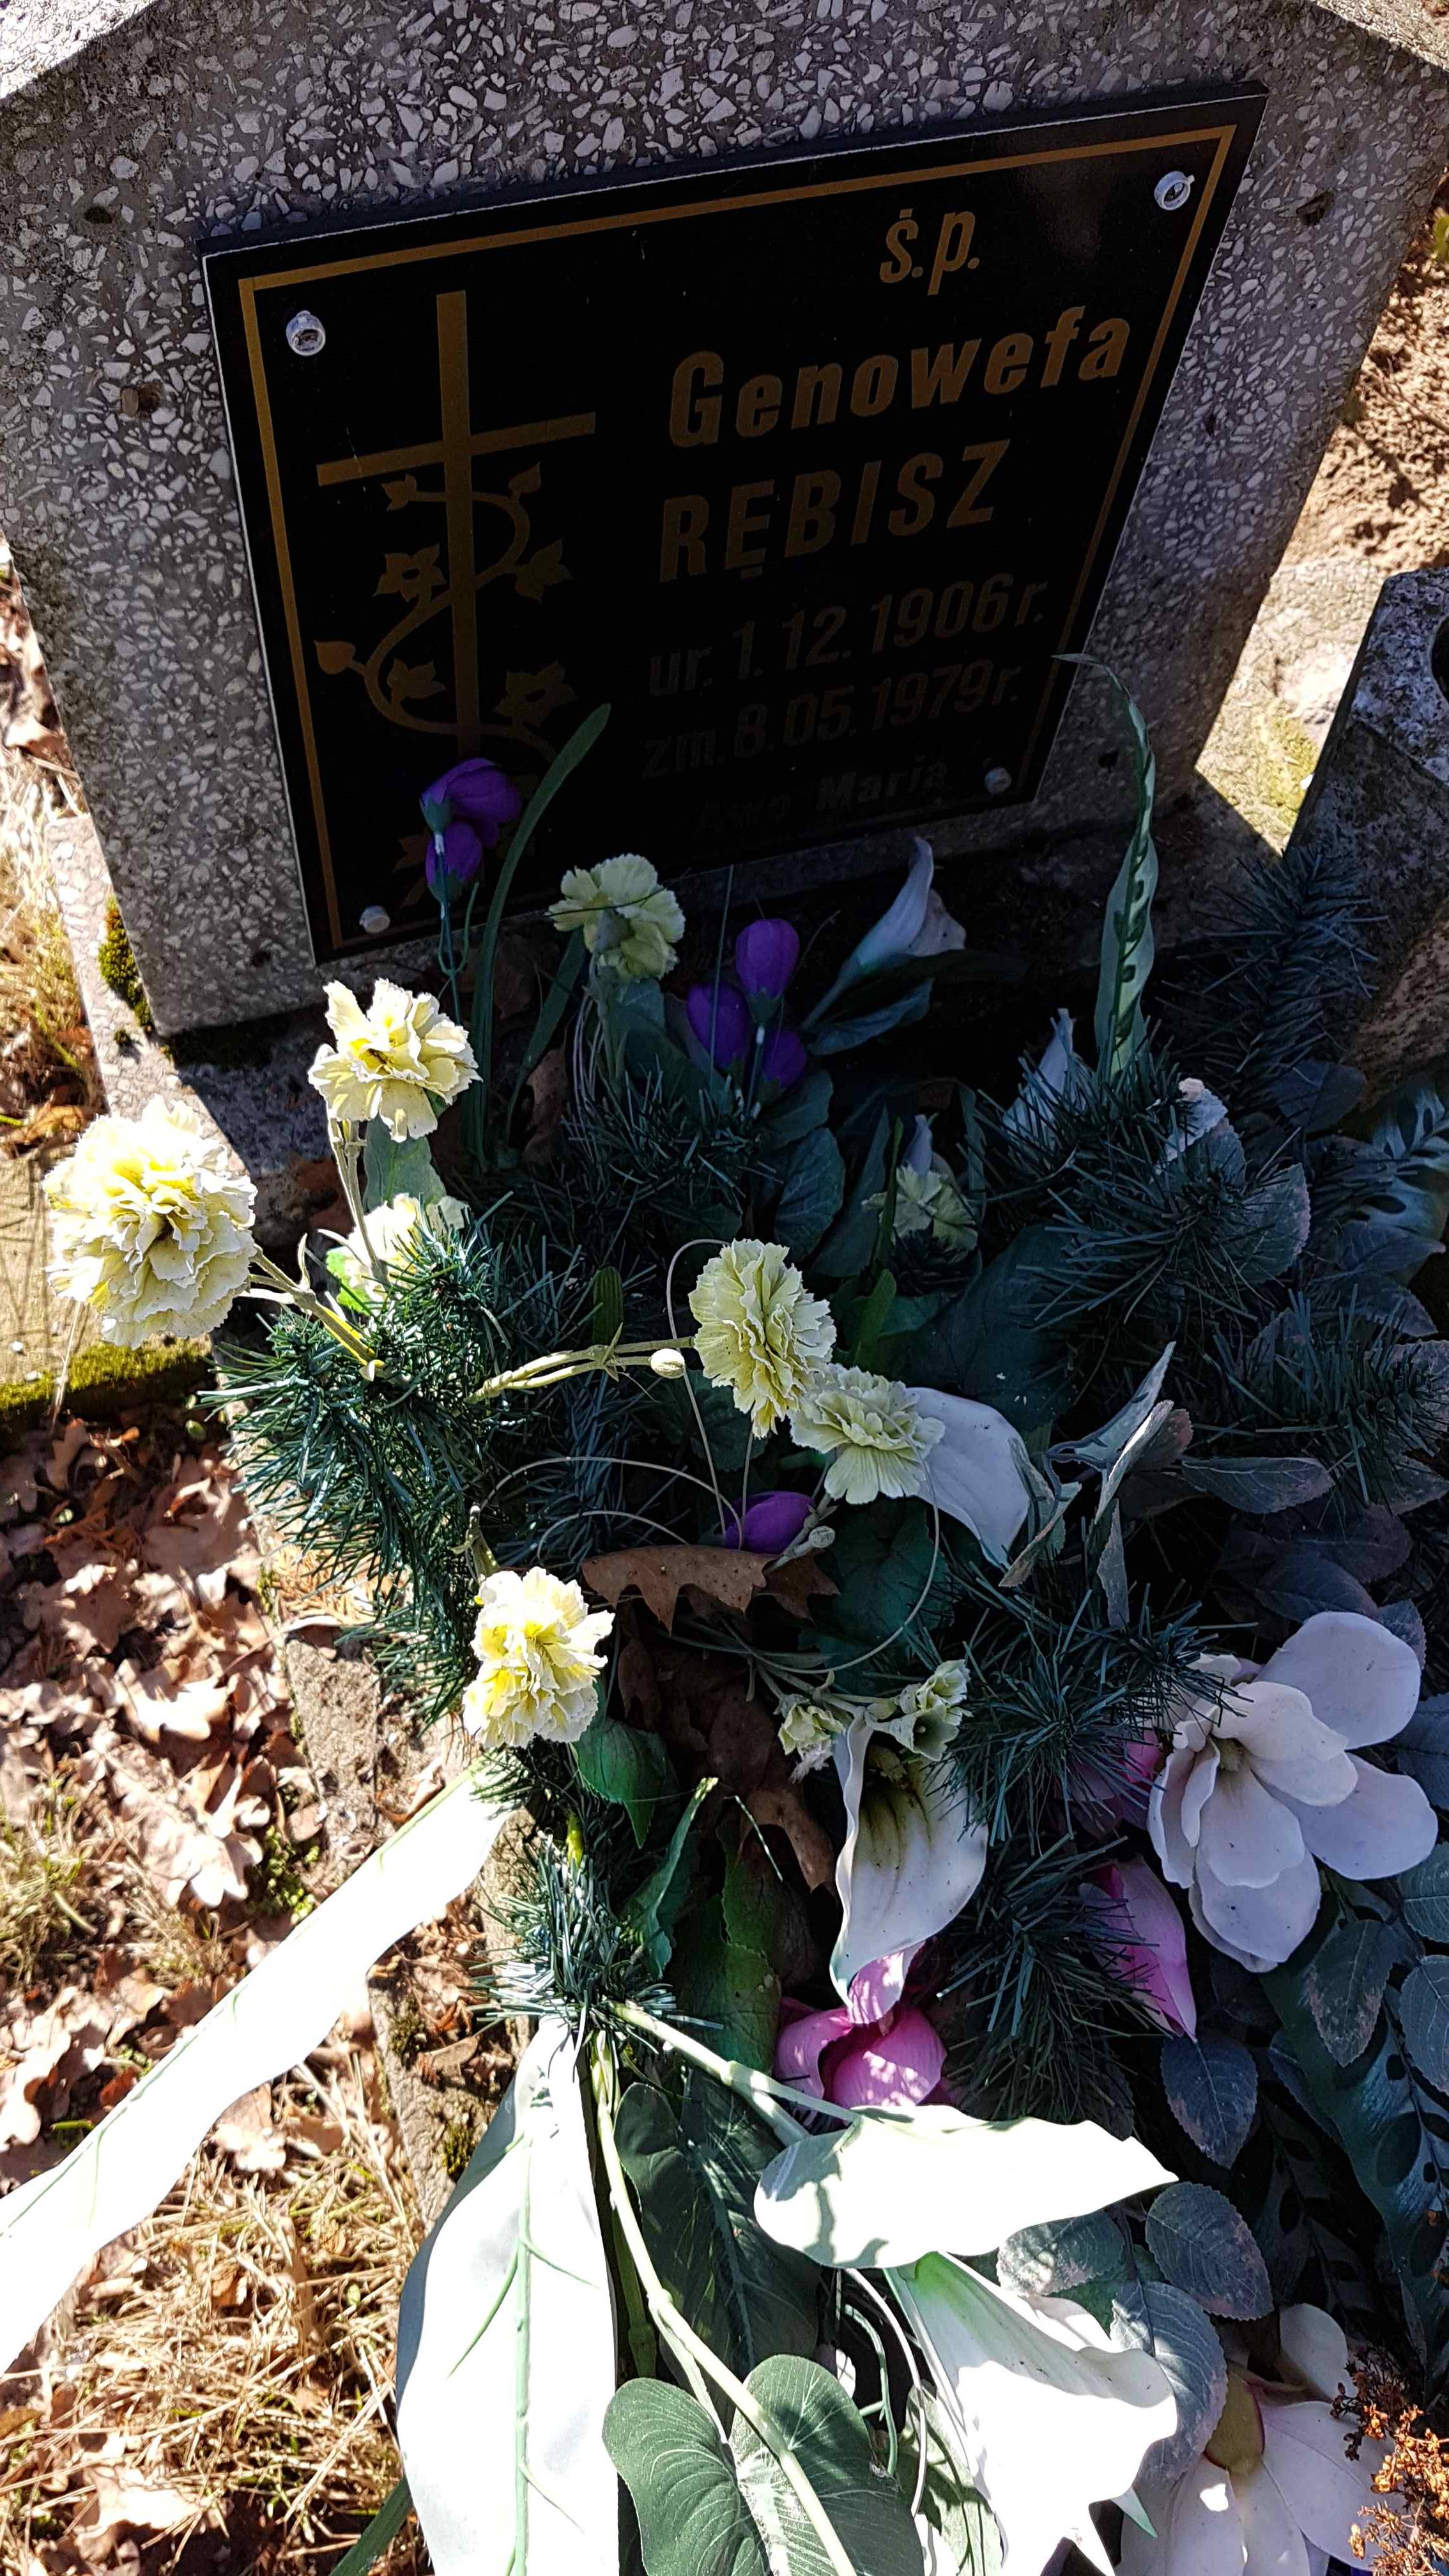upright: (0, 0, 1449, 1272)
